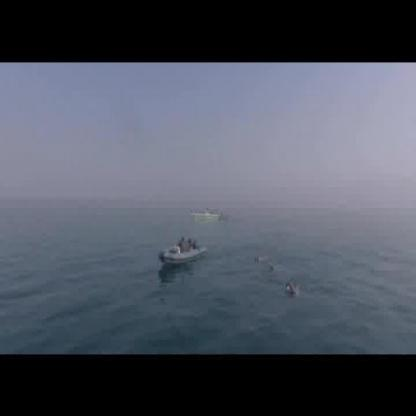Boat: (157, 234, 205, 262)
